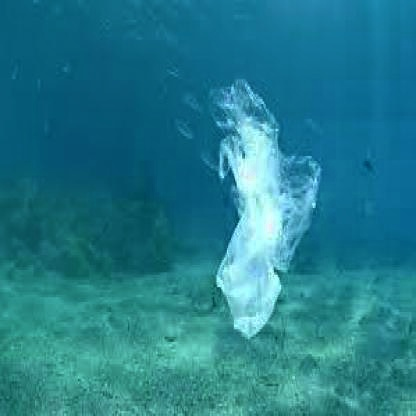pbag: (207, 77, 323, 339)
